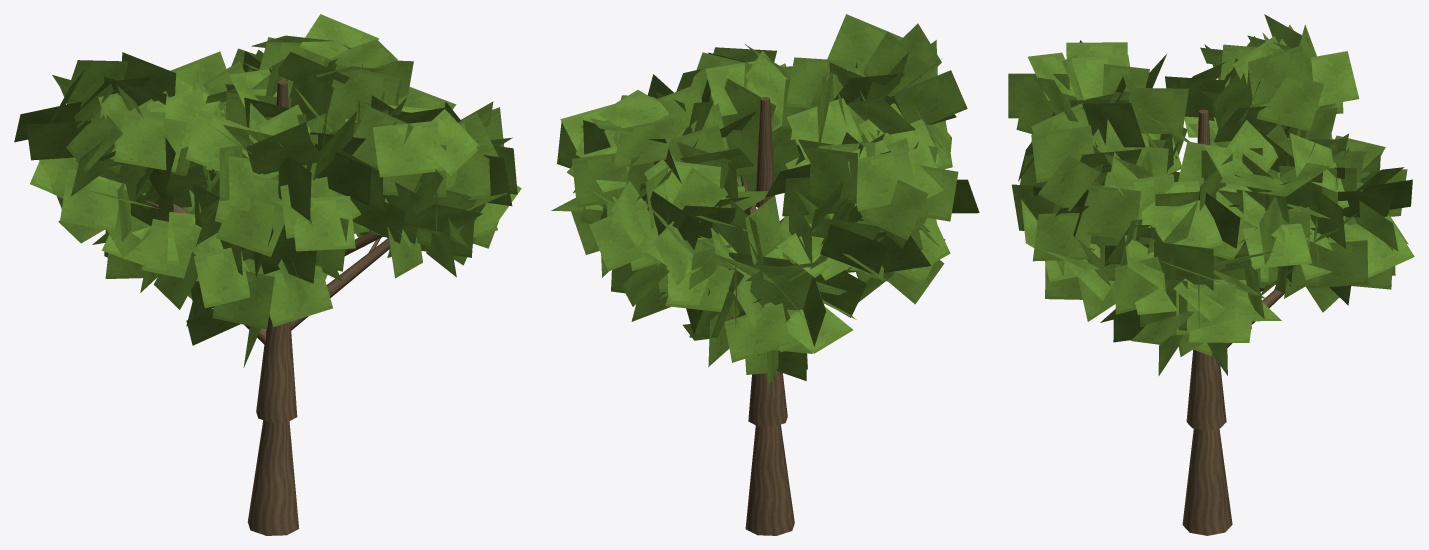
3 views of the same model, side by side, from view 1: azimuth 30°, elevation 25°; view 2: azimuth 150°, elevation 25°; view 3: azimuth 270°, elevation 25° (orthographic). The views are drawn at different scales.
Parts seen in each view (by area): view 1: oak-leaf, oak-bark; view 2: oak-leaf, oak-bark; view 3: oak-leaf, oak-bark.
Boxes of the visible parts, <box> form: oak-leaf: <box>14,14,521,367</box>; oak-bark: <box>143,80,390,535</box>; oak-leaf: <box>551,14,979,387</box>; oak-bark: <box>729,97,845,535</box>; oak-leaf: <box>1008,14,1414,375</box>; oak-bark: <box>1089,109,1284,535</box>.
Size of the model in its own units: 7.94 by 8.26 by 6.81.
2 materials, 2 textured.
